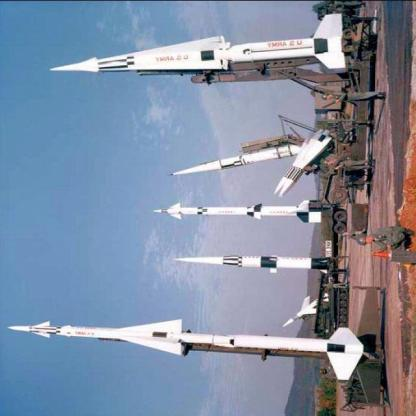MIL_TBM: (146, 201, 337, 227), (172, 252, 330, 272)
